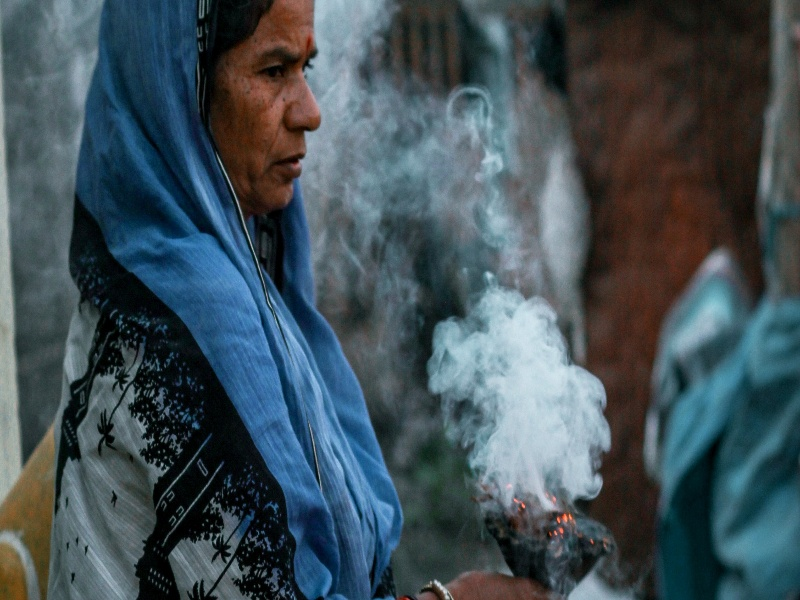smoke: (356, 94, 600, 498)
